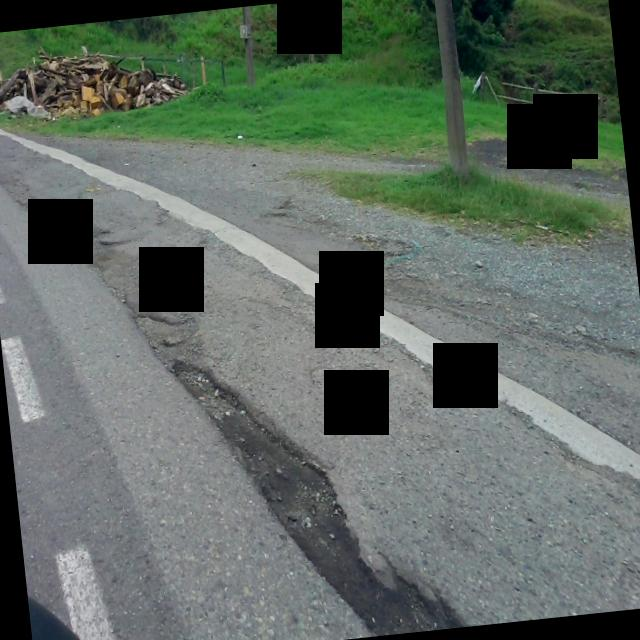DITCH: (0, 58, 640, 640), (0, 62, 640, 640)
